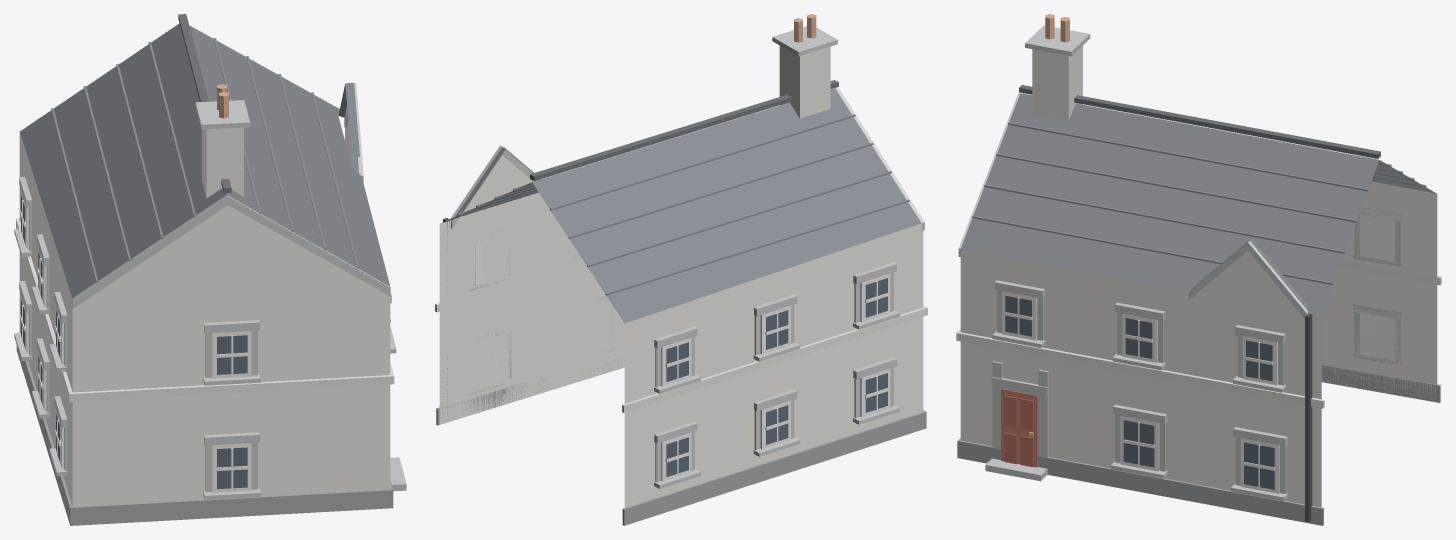
3 renders of one model, left to right at view 1: azimuth 30°, elevation 25°; view 2: azimuth 150°, elevation 25°; view 3: azimuth 270°, elevation 25°, orthographic. The views are drawn at different scales.
Visible parts, largest first — view 1: harl, slate, stone_band, plinth, slate_lt, string, frame, chim_render, window_glass_012, window_glass_013, slate_dk; view 2: harl, slate, stone_band, plinth, frame, slate_lt, chim_render, string, slate_dk, window_glass_006, window_glass_007, window_glass_008 (+3 smaller); view 3: harl, slate, stone_band, plinth, frame, slate_lt, string, chim_render, slate_dk, door_red_p, pipe, door_red (+5 smaller).
Boxes of the visible parts, x1,y1,x2,y2 form: harl: (19, 120, 390, 506); slate: (20, 23, 390, 298); stone_band: (14, 82, 406, 499); plinth: (16, 333, 393, 525); slate_lt: (51, 38, 358, 282); string: (16, 218, 394, 401); frame: (20, 193, 390, 492); chim_render: (202, 127, 243, 198); window_glass_012: (217, 447, 247, 489); window_glass_013: (217, 335, 247, 374); slate_dk: (178, 14, 231, 193); harl: (439, 155, 923, 507); slate: (441, 88, 921, 323); stone_band: (450, 26, 924, 488); plinth: (436, 360, 926, 525); frame: (475, 239, 890, 481); slate_lt: (457, 114, 909, 295); chim_render: (779, 46, 830, 118); string: (435, 302, 927, 412); slate_dk: (530, 80, 838, 181); window_glass_006: (666, 437, 688, 477); window_glass_007: (666, 342, 688, 381); window_glass_008: (766, 405, 788, 444); harl: (960, 181, 1437, 507); slate: (961, 93, 1436, 315); stone_band: (958, 25, 1401, 501); plinth: (957, 365, 1440, 525); frame: (1002, 214, 1394, 493); slate_lt: (972, 122, 1426, 284); string: (956, 261, 1441, 408); chim_render: (1032, 46, 1082, 120); slate_dk: (1019, 85, 1380, 158); door_red_p: (1004, 395, 1033, 467); pipe: (1305, 313, 1312, 521); door_red: (1001, 389, 1038, 467).
Size of the model in its own units: 10.69 by 10.17 by 11.6.
